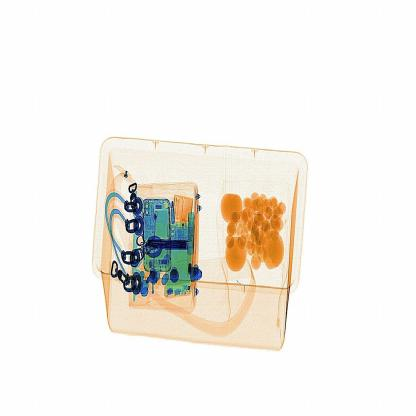scissors: (142, 233, 194, 261)
